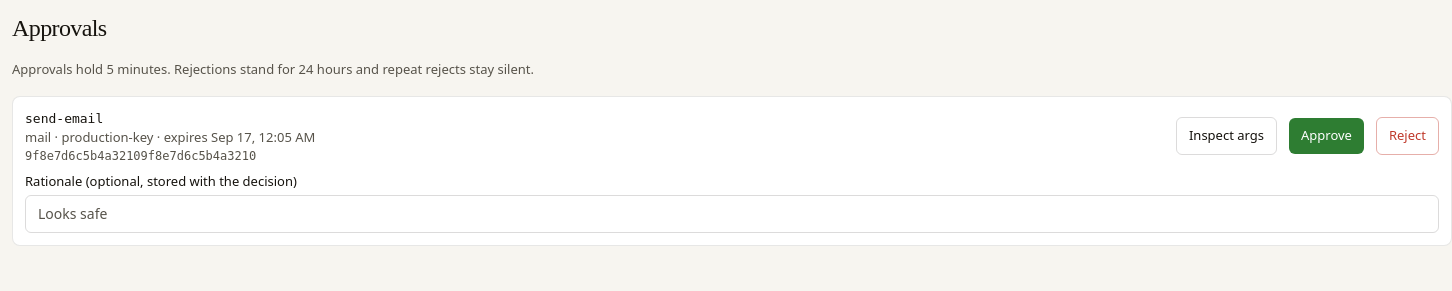
Test: ApprovalsPage › reports args hydration failures honestly
This screenshot has width=1452, height=291.
Click the button "Inspect args": (1226, 136) [1176,117,1277,155]
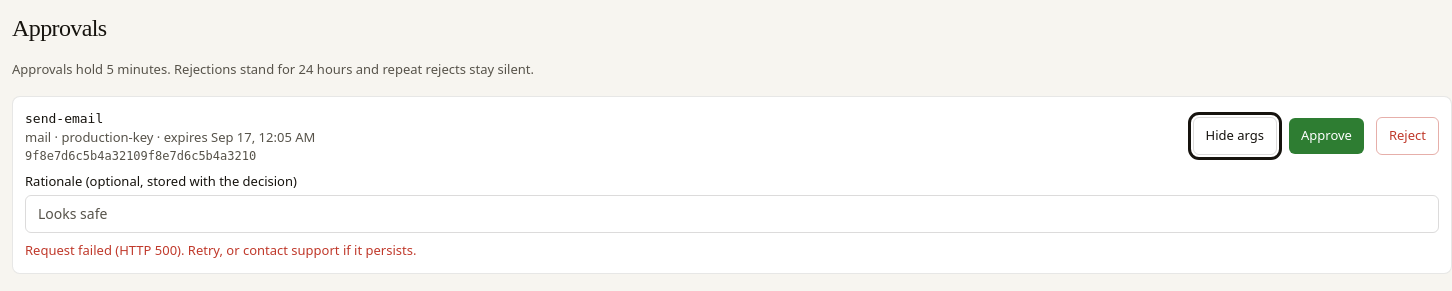
Check: the message shows "HTTP 500", box [25,241,416,259]
